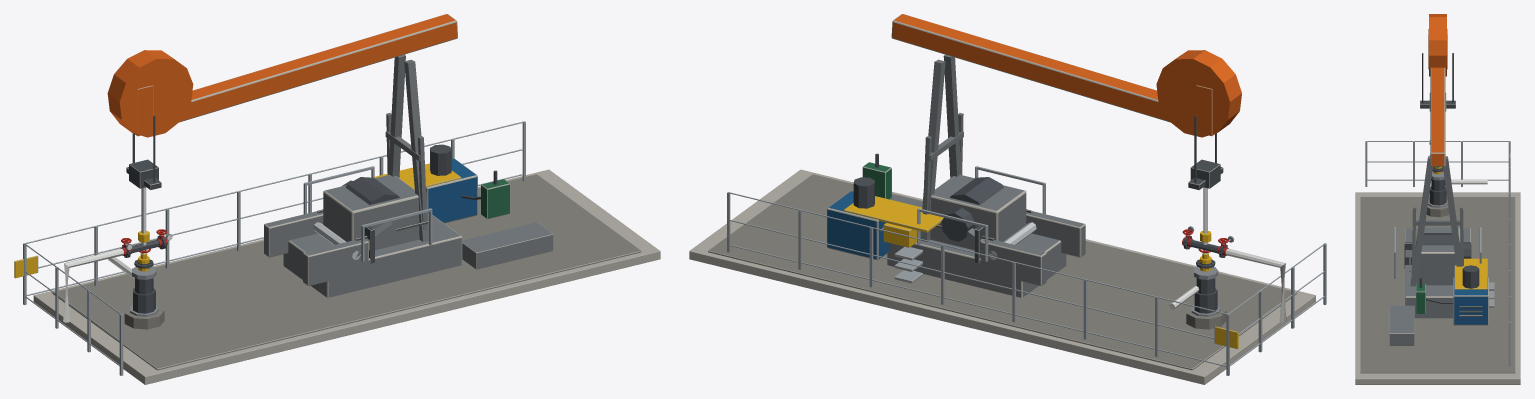
File: on_pumpjack.glb
3 renders of one model, left to right at view 1: azimuth 30°, elevation 25°; view 2: azimuth 150°, elevation 25°; view 3: azimuth 270°, elevation 25°, orthographic. The views are drawn at different scales.
Visible parts, largest first — view 1: on_pumpjack; view 2: on_pumpjack; view 3: on_pumpjack.
Part boxes in pixels (x1,y1,x2,y2): on_pumpjack: [14, 14, 660, 384]; on_pumpjack: [689, 14, 1326, 384]; on_pumpjack: [1355, 14, 1520, 384].
Size of the model in its own units: 16.81 by 8.15 by 6.
